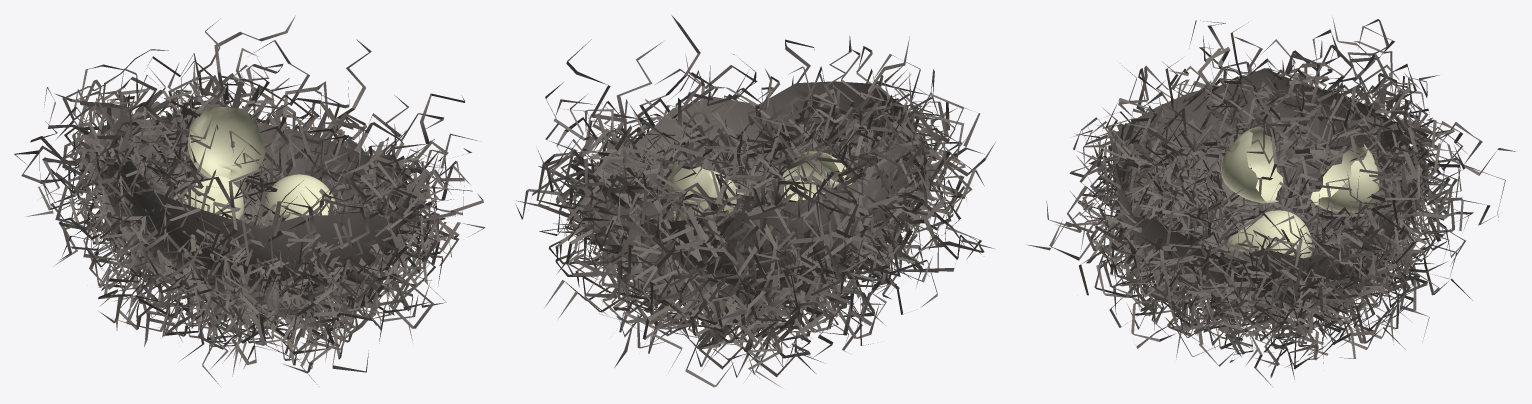
Rendered from nest.fbx.
The picture shows the model from 3 angles, left to right: view 1: azimuth 30°, elevation 25°; view 2: azimuth 150°, elevation 25°; view 3: azimuth 270°, elevation 25°; orthographic projection. The views are drawn at different scales.
Visible parts, largest first — view 1: nest_1, egg_2, egg_3, egg; view 2: nest_1, egg_2, egg; view 3: nest_1, egg, egg_2, egg_3.
Boxes of the visible parts, x1,y1,x2,y2 form: nest_1: (14, 15, 485, 387); egg_2: (187, 107, 265, 182); egg_3: (262, 174, 337, 225); egg: (173, 175, 243, 219); nest_1: (515, 15, 995, 387); egg_2: (669, 161, 743, 220); egg: (782, 151, 851, 201); nest_1: (1026, 17, 1515, 387); egg: (1221, 126, 1283, 203); egg_2: (1310, 144, 1379, 212); egg_3: (1225, 210, 1312, 258).
Size of the model in its own units: 401 by 284 by 453.
